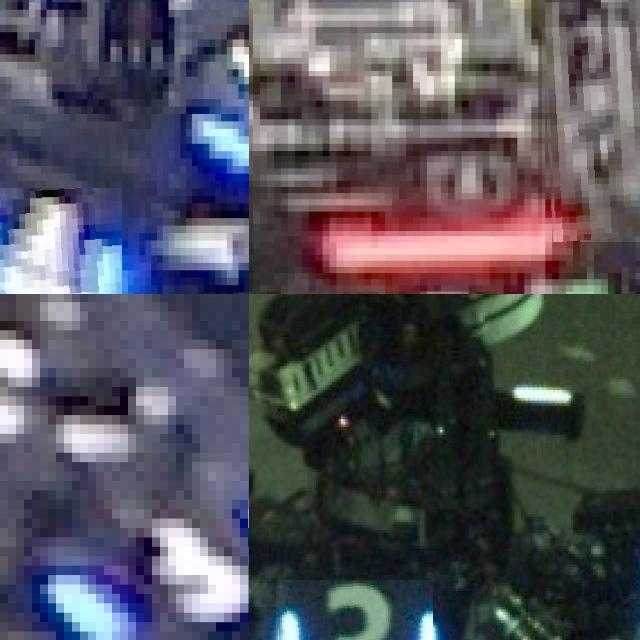B3: (40, 490, 249, 631), (275, 580, 433, 640)
B4: (0, 188, 122, 294)
R4: (542, 26, 640, 242), (294, 251, 538, 294)
